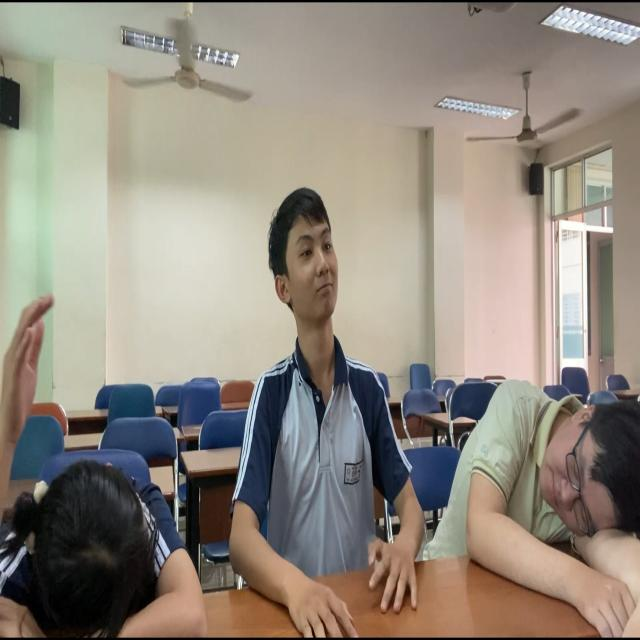sleep: (434, 372, 640, 640), (1, 450, 221, 640)
